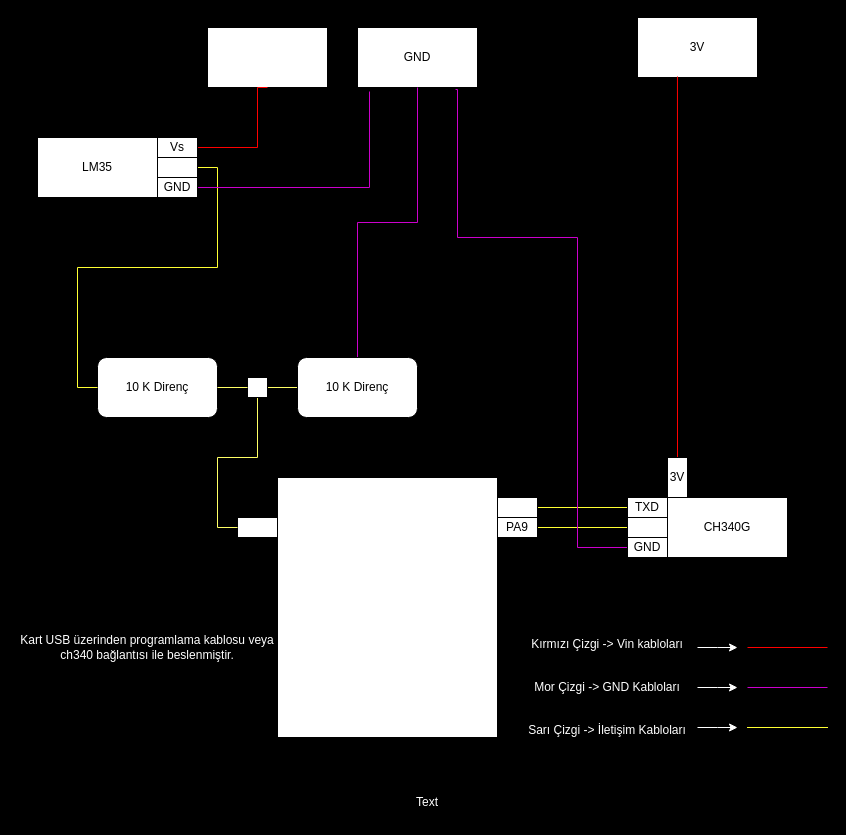
Image size: 846x835. Some labels were removed from this diagram. Here are the shapes that lost their labels. From the top down, the centre of each, then its label:
point 267,57: 5V
point 177,167: Vout
point 257,527: PA0
point 517,507: PA10
point 647,527: RXD
point 387,607: STM32 Geliştirme Kartı
